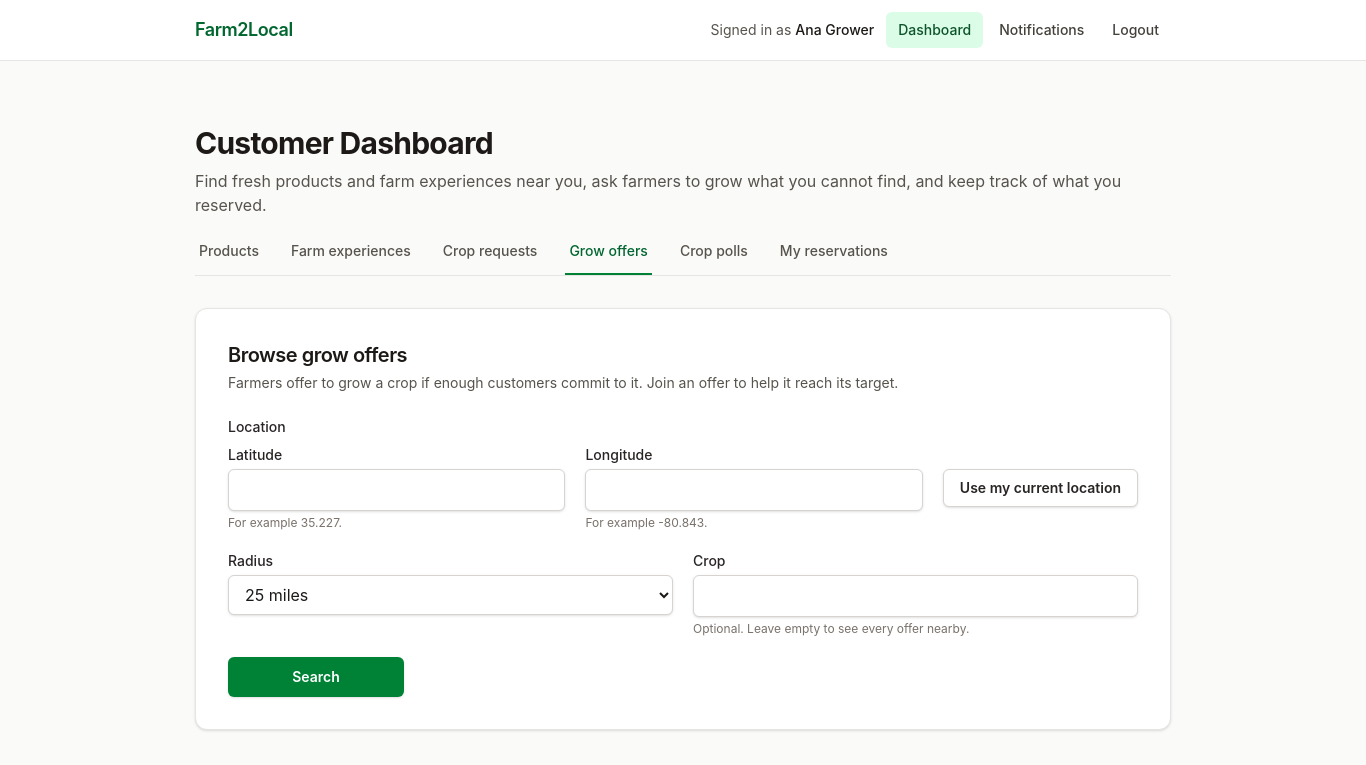
joining a grow offer › commits to a quantity and shows the new progress
The image size is (1366, 765).
Type "35.227" into the field labelled "Latitude".
click(397, 490); type("35.227")  # box [228,469,565,511]
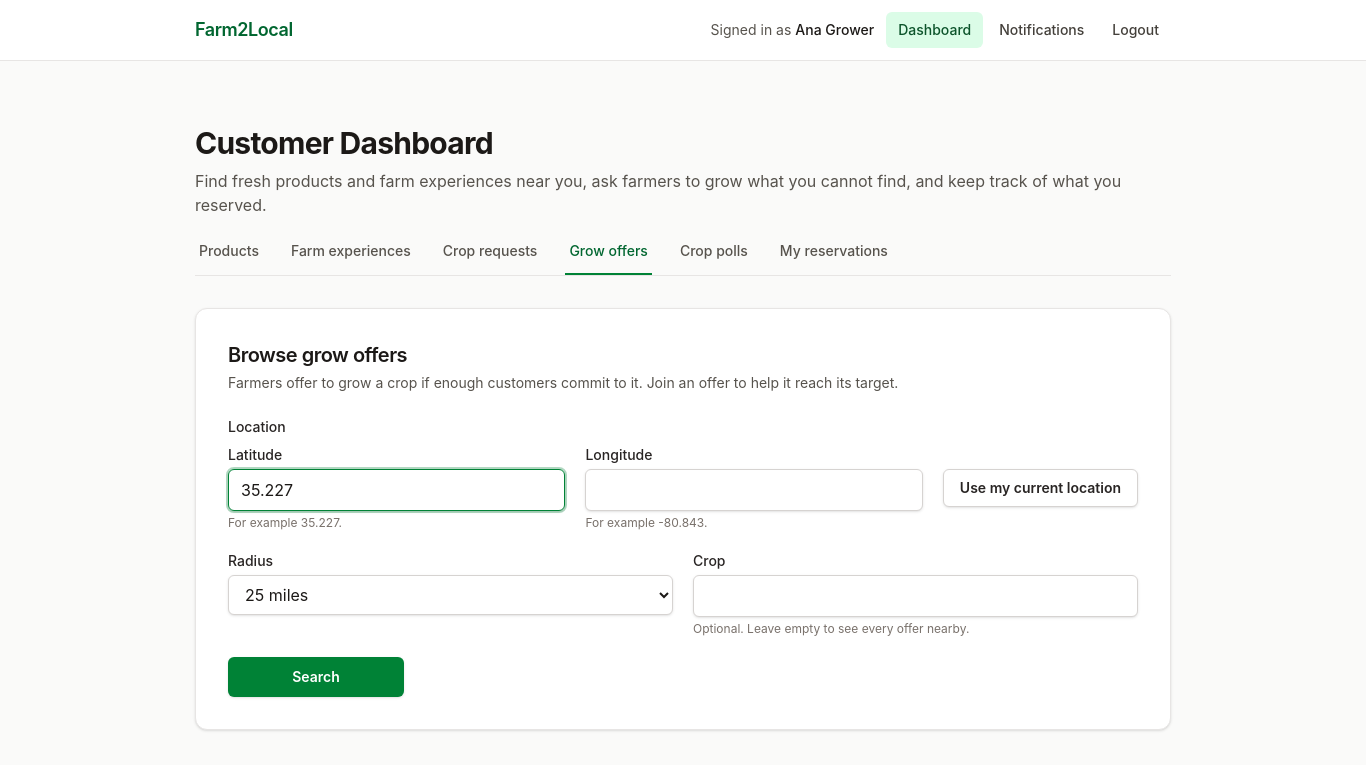
Type "-80.843" into the field labelled "Longitude".
click(754, 490); type("-80.843")  # box [585,469,923,511]
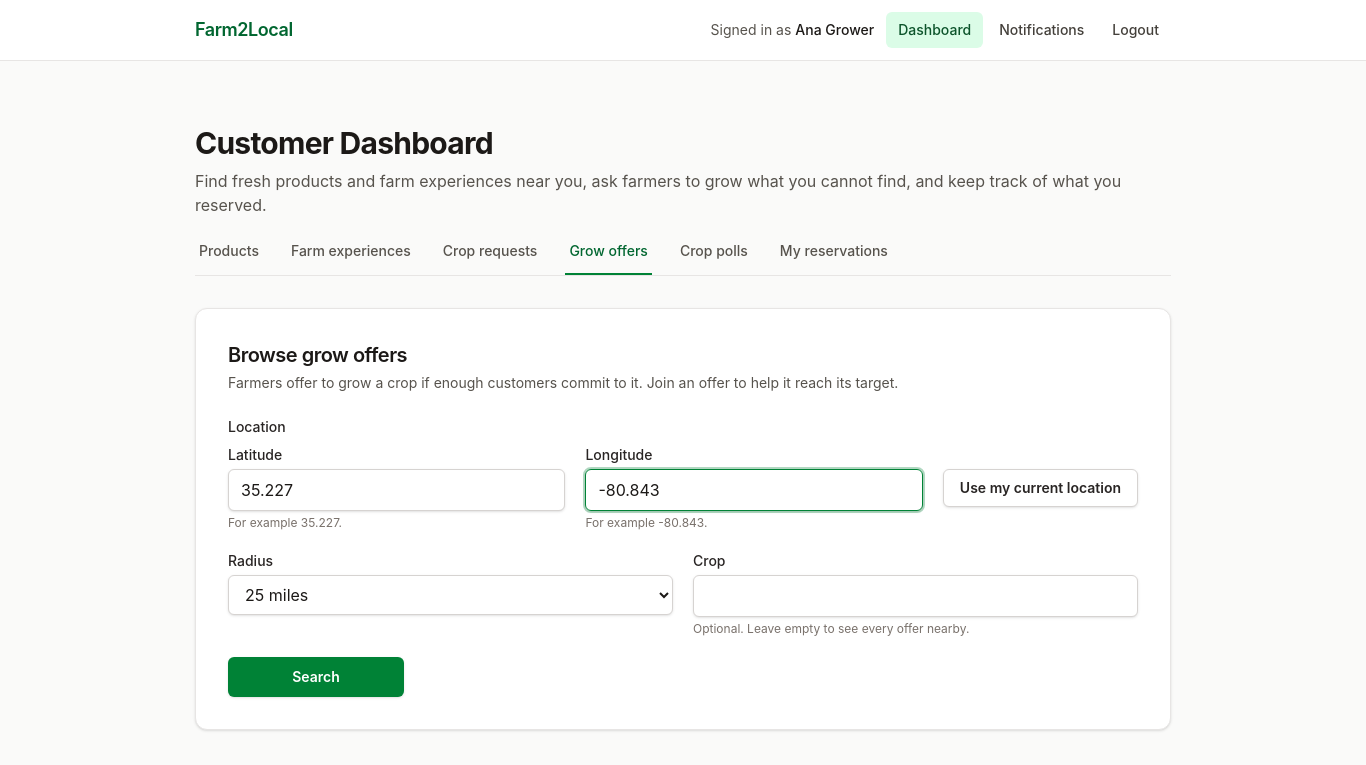
Click the button "Search".
click(316, 677)  # box [228,657,404,697]
(page scrolled)
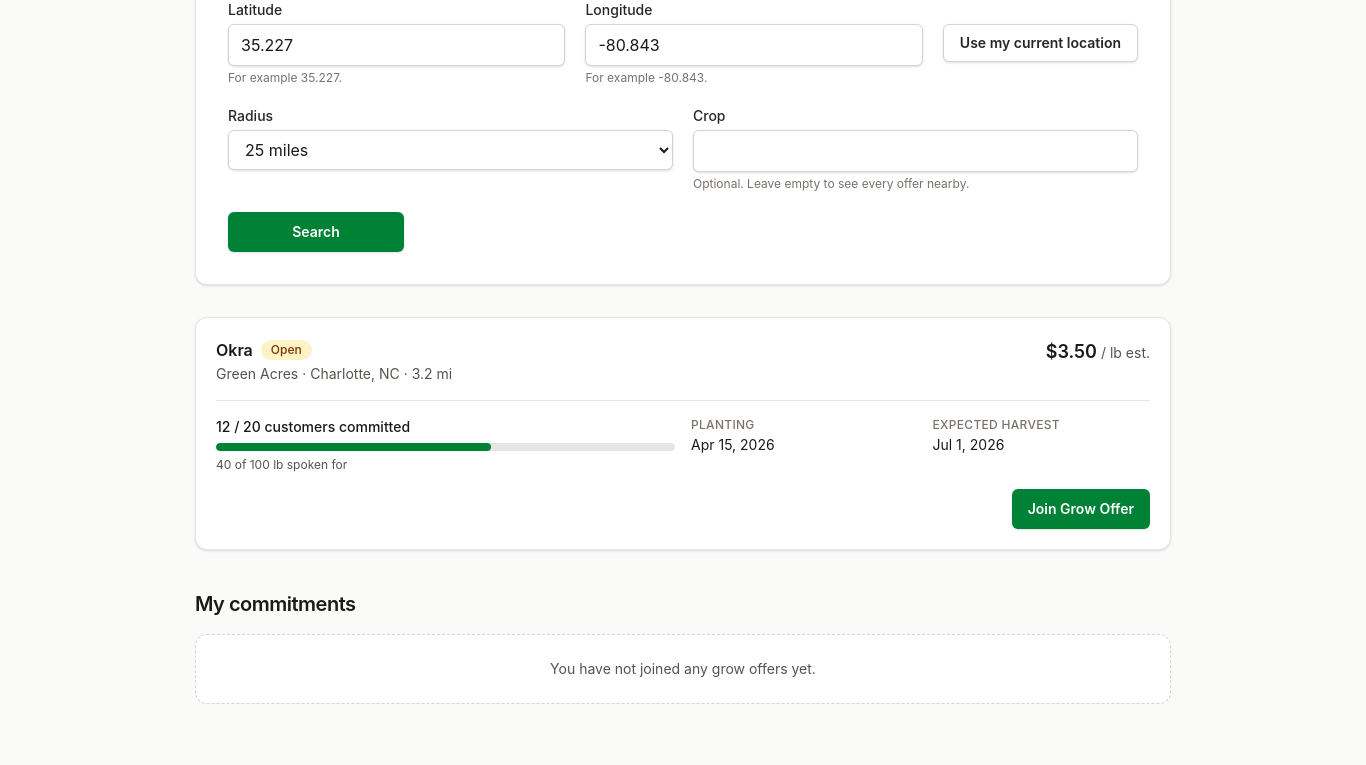
Click the button with aria-label "Join grow offer for Okra".
click(1081, 509)  # box [1012,489,1150,529]
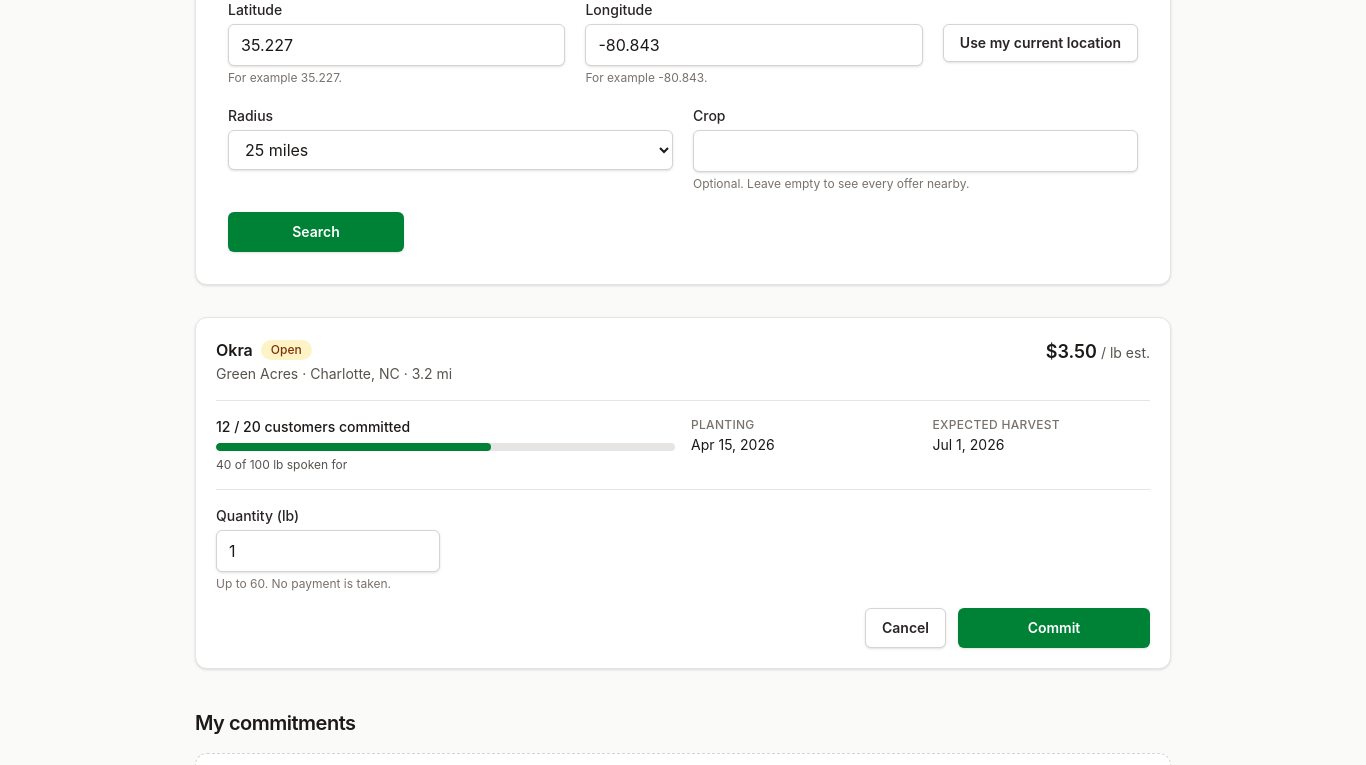
Replace the text in the field labelled "Quantity (lb)" with "5" at [328, 551], box [216,530,440,572]
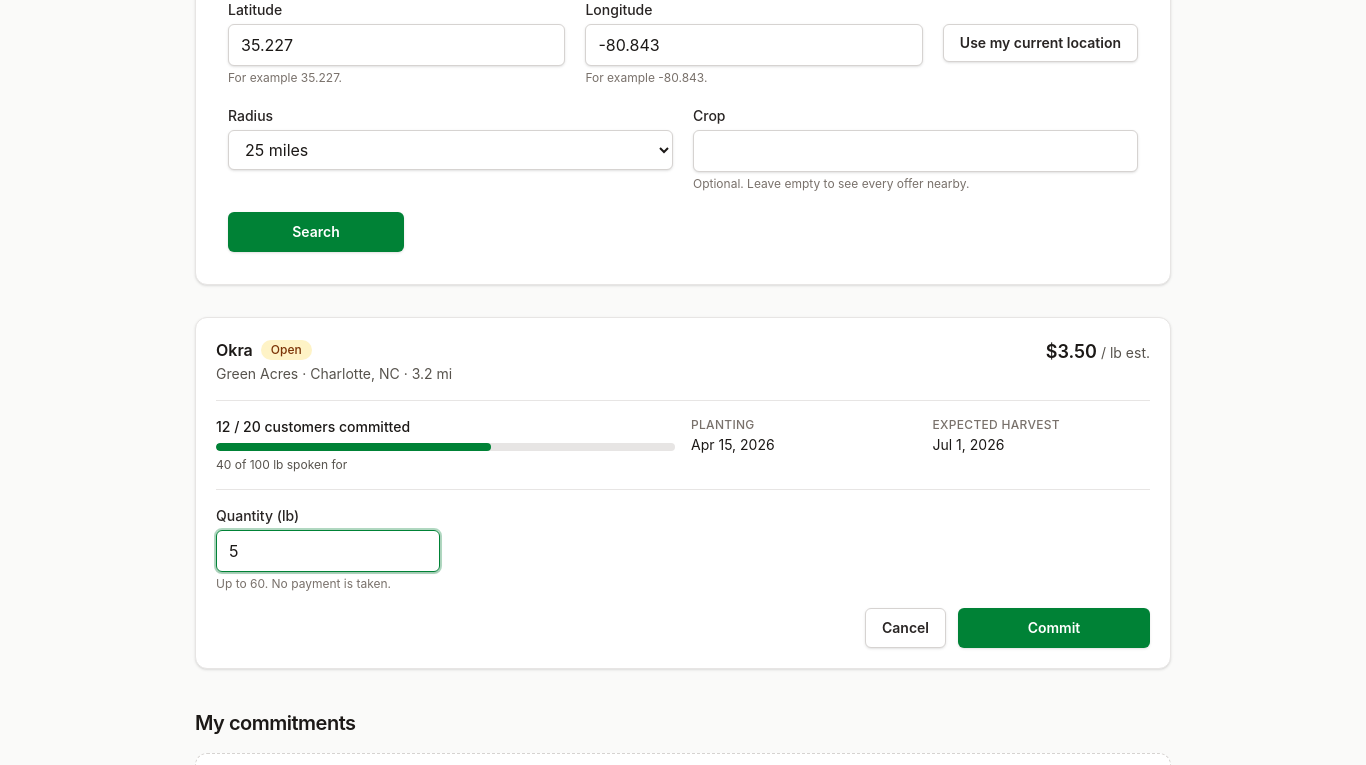
Click the button "Commit".
click(1054, 628)  # box [958,608,1150,648]
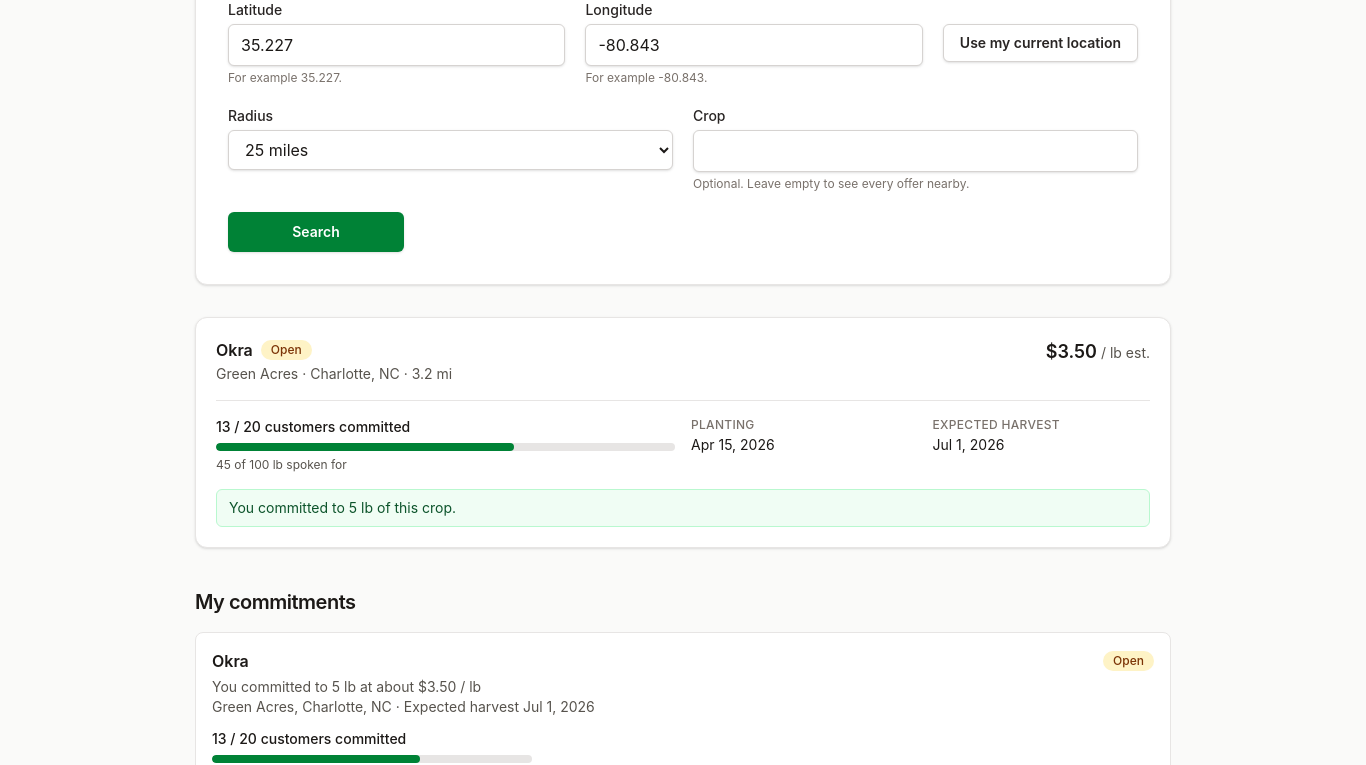
Result: the message reads "You committed to 5 lb of this crop." at [216,489,1150,527]
Result: the text "13 / 20 customers committed" next to "Planting" is shown at [216,418,410,435]
Result: the text "45 of 100 lb spoken for" is shown at [216,457,347,472]
